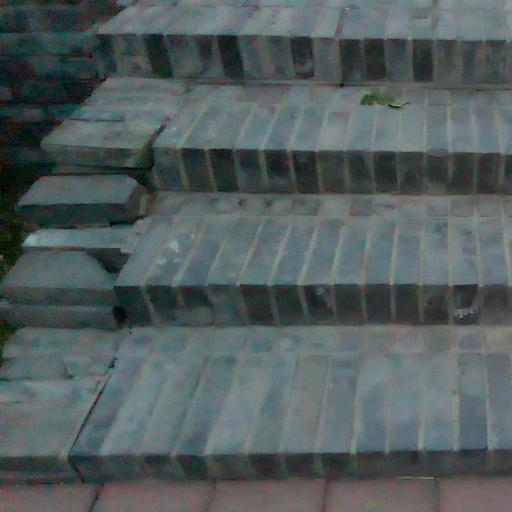stairs: (2, 0, 511, 481), (116, 193, 510, 325), (98, 0, 510, 86)
